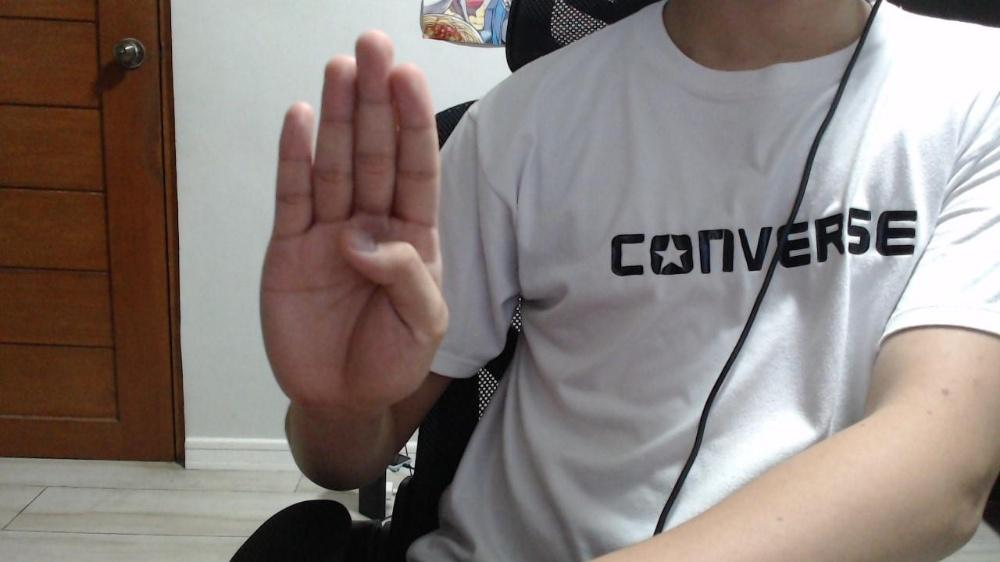b: (258, 30, 449, 408)
